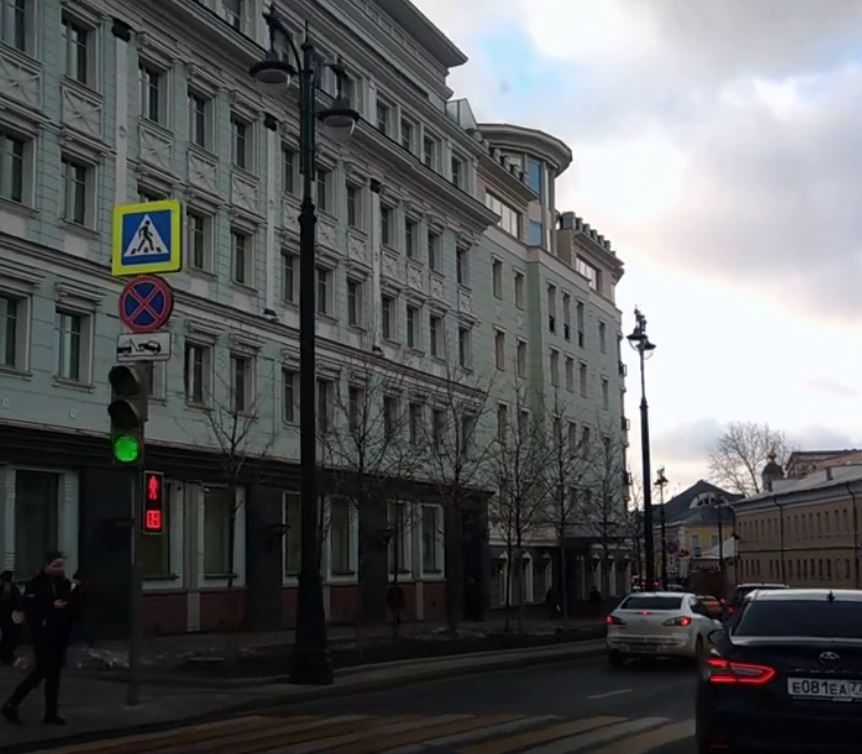Yaya Gecidi: (121, 210, 171, 265)
